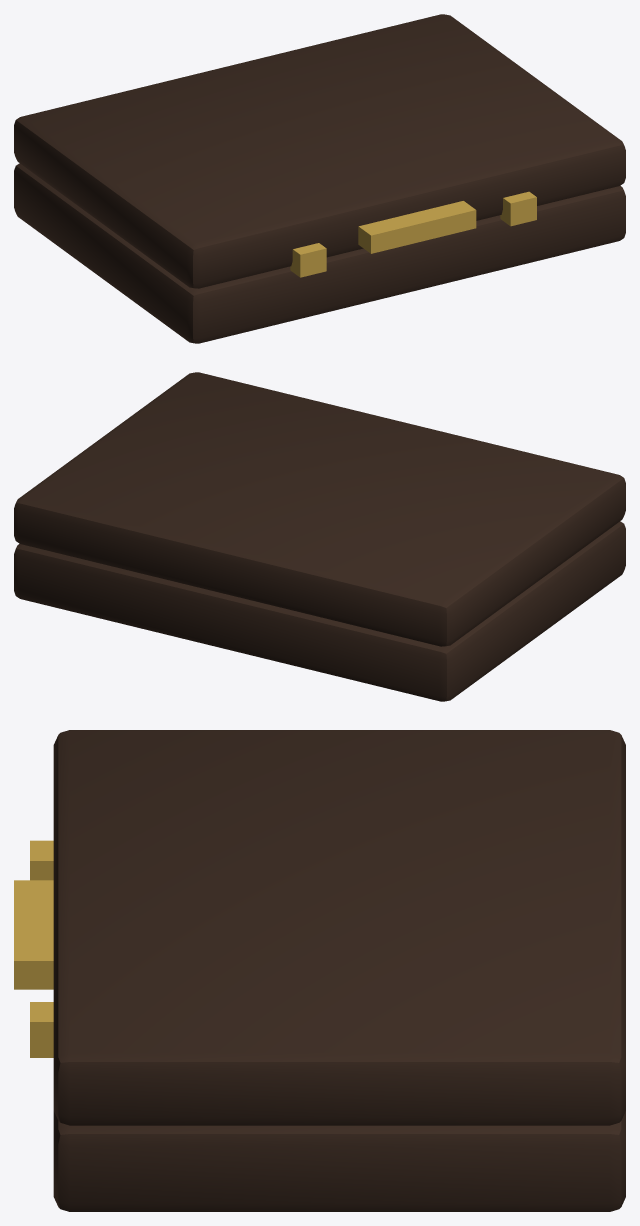
The model's file is briefcase.glb.
3 views of the same model, one above another, from view 1: azimuth 30°, elevation 25°; view 2: azimuth 150°, elevation 25°; view 3: azimuth 270°, elevation 25° (orthographic). The views are drawn at different scales.
Parts seen in each view (by area): view 1: lid, base; view 2: lid, base; view 3: lid, base.
Part boxes in pixels (<box>): lid: <box>14,14,625,288</box>; base: <box>14,163,625,343</box>; lid: <box>14,372,625,646</box>; base: <box>14,521,625,701</box>; lid: <box>14,730,625,1125</box>; base: <box>53,1111,625,1211</box>.
Size of the model in its own units: 0.5 by 0.11 by 0.385.
